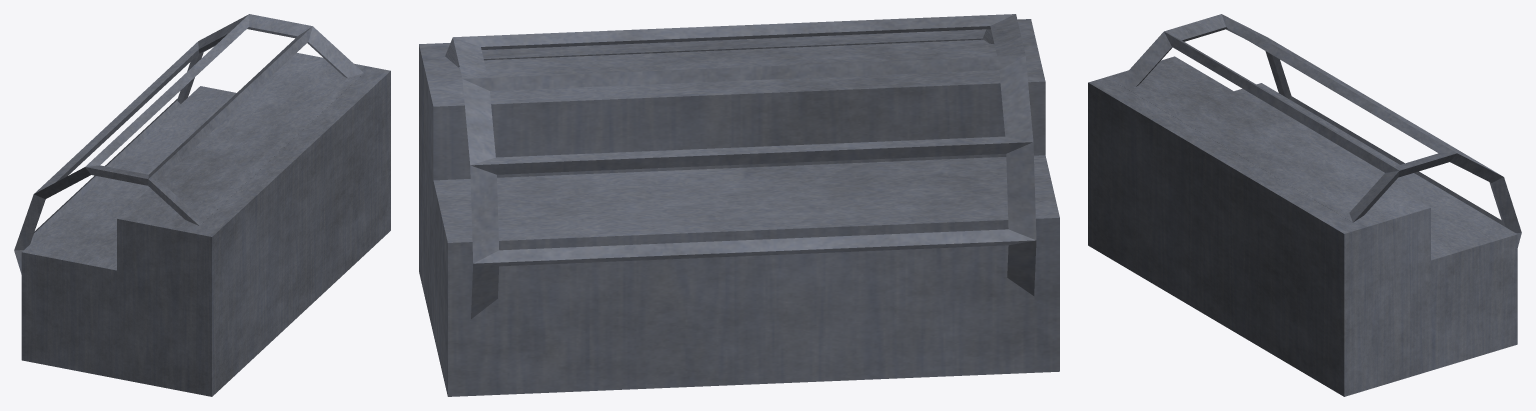
File: FundacionFortabat.glb
3 views of the same model, side by side, from view 1: azimuth 30°, elevation 25°; view 2: azimuth 150°, elevation 25°; view 3: azimuth 270°, elevation 25° (orthographic). The views are drawn at different scales.
Parts seen in each view (by area): view 1: FundacionFortabat; view 2: FundacionFortabat; view 3: FundacionFortabat.
Part boxes in pixels (x1,y1,x2,y2): FundacionFortabat: [14, 14, 390, 396]; FundacionFortabat: [419, 14, 1059, 396]; FundacionFortabat: [1088, 14, 1521, 396].
Size of the model in its own units: 1.18 by 0.5416 by 1.06.
Materials: 1 (1 with a texture image).
